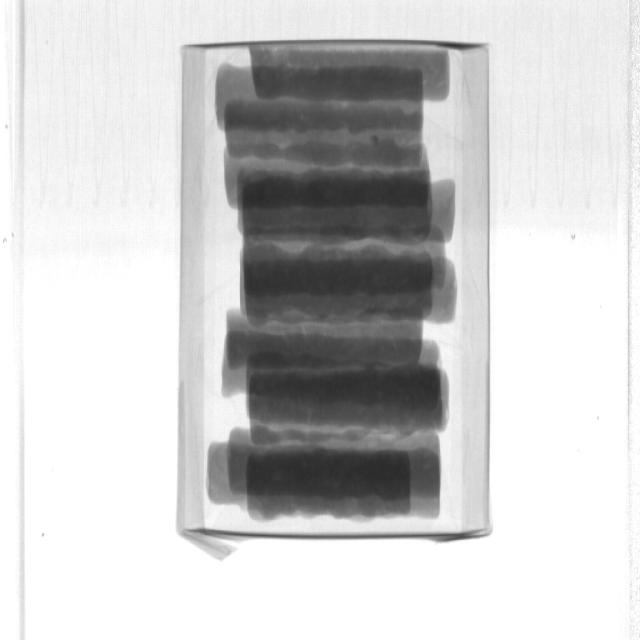ym: (371, 134, 381, 147)
